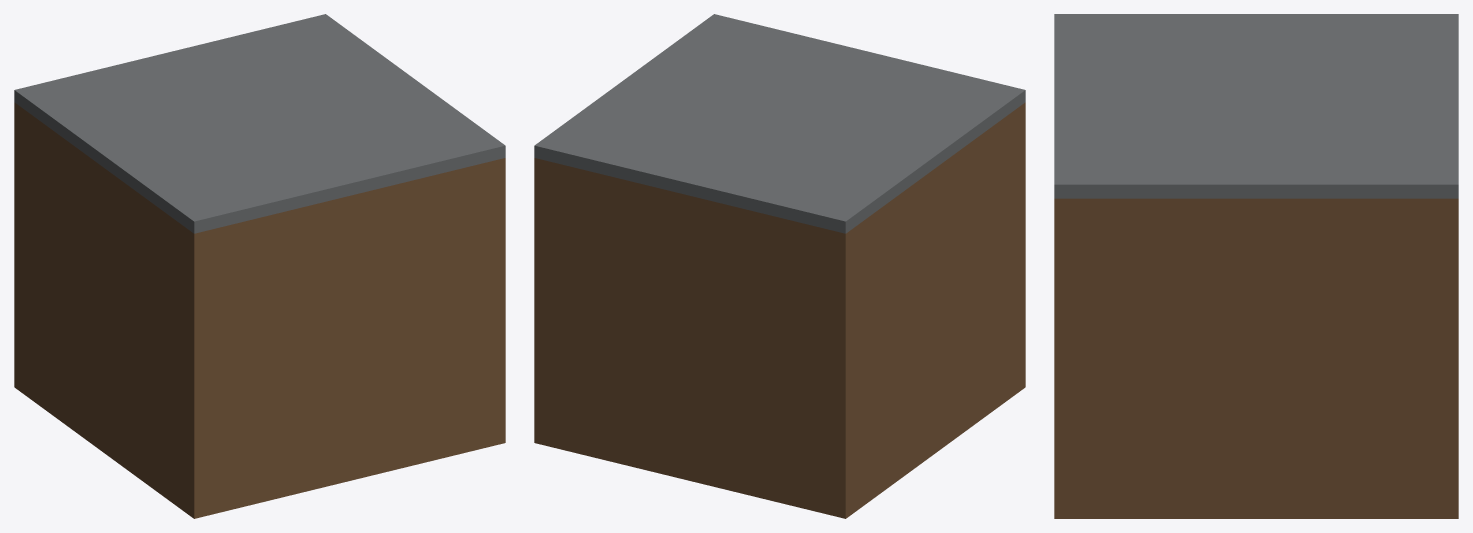
The model's file is open-body.glb.
3 views of the same model, side by side, from view 1: azimuth 30°, elevation 25°; view 2: azimuth 150°, elevation 25°; view 3: azimuth 270°, elevation 25° (orthographic). The views are drawn at different scales.
Parts seen in each view (by area): view 1: open-body; view 2: open-body; view 3: open-body.
Part boxes in pixels (x1,y1,x2,y2): open-body: (14,14,505,518); open-body: (534,14,1025,518); open-body: (1054,14,1458,518).
Bounding box in the file's own units: 4 × 3.65 × 4.
